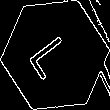L_NE: (28, 28, 82, 82)
